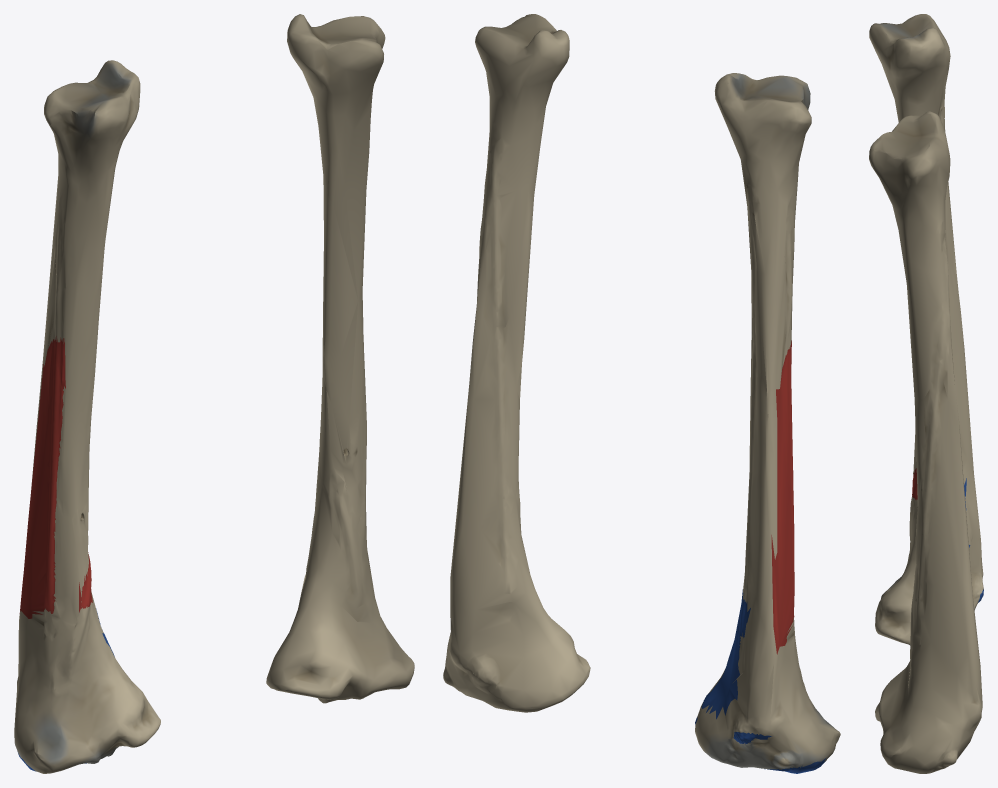
Rendered from tibia.glb.
3 views of the same model, side by side, from view 1: azimuth 30°, elevation 25°; view 2: azimuth 150°, elevation 25°; view 3: azimuth 270°, elevation 25° (orthographic). The views are drawn at different scales.
Parts seen in each view (by area): view 1: FJ3282, FJ3387, tibia__corpus-linea-solei, origo__corpus-linea-solei__FJ1439, tibia__pes-anserinus, tibia__malleolus-medialis; view 2: FJ3282, FJ3387, origo__corpus-linea-solei__FJ1439, tibia__condyli-eminentia, tibia__malleolus-medialis, tibia__tuberositas-tibiae, insertio__pes-anserinus__FJ1421, tibia__pes-anserinus; view 3: FJ3282, FJ3387, tibia__malleolus-medialis, tibia__pes-anserinus.
Boxes of the visible parts, x1,y1,x2,y2 form: FJ3282: (266,14,414,703); FJ3387: (14,61,160,773); tibia__corpus-linea-solei: (53,333,96,607); origo__corpus-linea-solei__FJ1439: (19,336,65,618); tibia__pes-anserinus: (76,592,131,688); tibia__malleolus-medialis: (63,60,140,128); FJ3282: (443,14,590,712); FJ3387: (695,74,840,766); origo__corpus-linea-solei__FJ1439: (771,340,794,654); tibia__condyli-eminentia: (705,736,826,769); tibia__malleolus-medialis: (714,73,794,148); tibia__tuberositas-tibiae: (735,637,775,736); insertio__pes-anserinus__FJ1421: (701,607,741,719); tibia__pes-anserinus: (708,623,751,720); FJ3282: (869,111,982,773); FJ3387: (870,14,982,644); tibia__malleolus-medialis: (869,18,950,77); tibia__pes-anserinus: (899,496,980,595).
Bounding box in the file's own units: 219 × 380 × 63.15.
